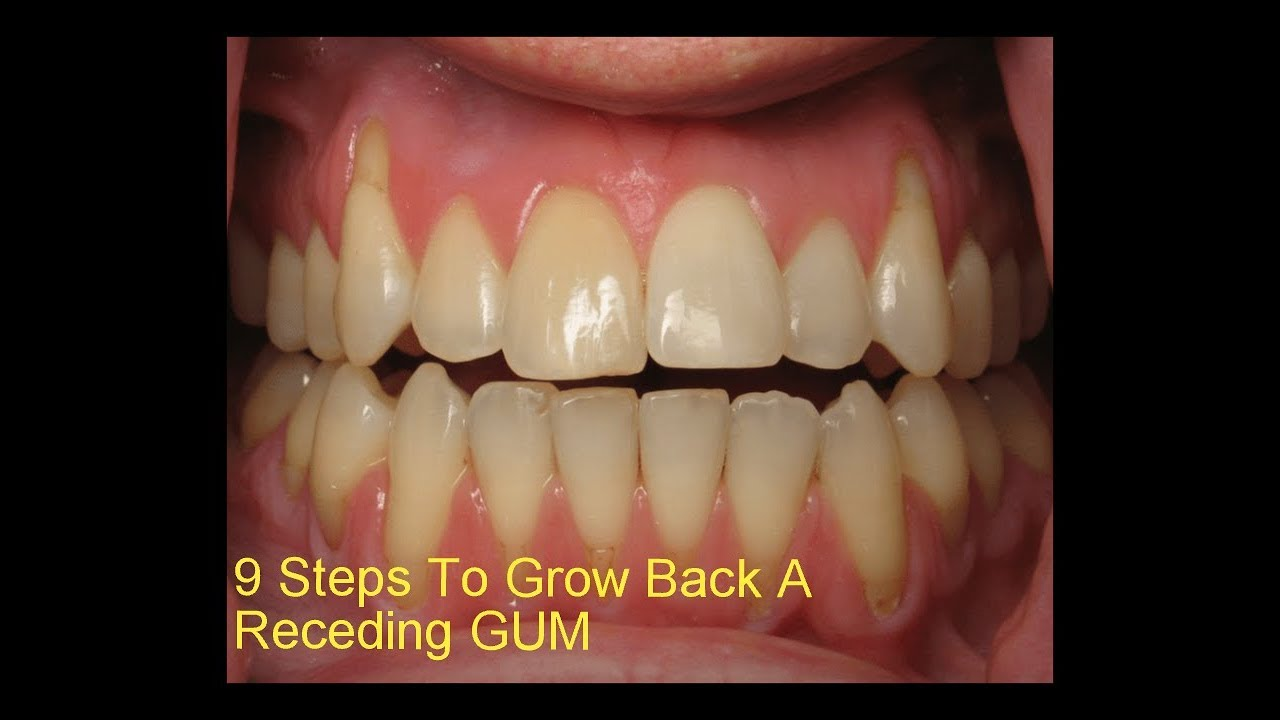LL1BC_healthy: (894, 378, 967, 546)
LLCI_healthy: (635, 390, 726, 552)
LLC_healthy: (819, 378, 894, 549)
LLLI_healthy: (726, 390, 819, 549)
LR1BC_healthy: (313, 363, 392, 550)
LRCI_healthy: (553, 386, 638, 550)
LRC_healthy: (392, 363, 470, 539)
LRLI_healthy: (470, 386, 553, 539)
UL1BC_healthy: (947, 234, 993, 377)
UL2BC_healthy: (989, 241, 1018, 372)
ULCI_healthy: (640, 188, 785, 370)
ULC_healthy: (868, 216, 947, 377)
ULLI_healthy: (785, 216, 868, 370)
UR1BC_healthy: (303, 227, 339, 365)
UR2BC_healthy: (270, 227, 303, 350)
URCI_healthy: (503, 185, 643, 382)
URC_healthy: (337, 188, 415, 365)
URLI_healthy: (414, 191, 503, 360)
